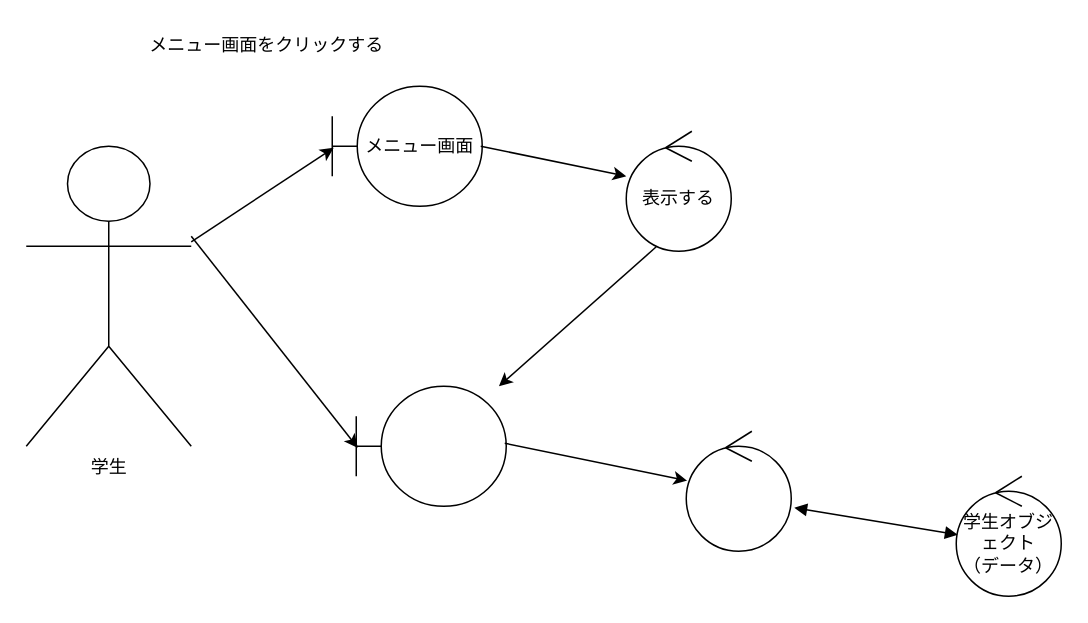
Image size: 1088x623. Some labels were removed from this diagram. The centre of each missing label's shape, as x and y in pixels:
"学生情報 登録" belongs at (738,490).
"学生登録 情報" belongs at (430,445).
